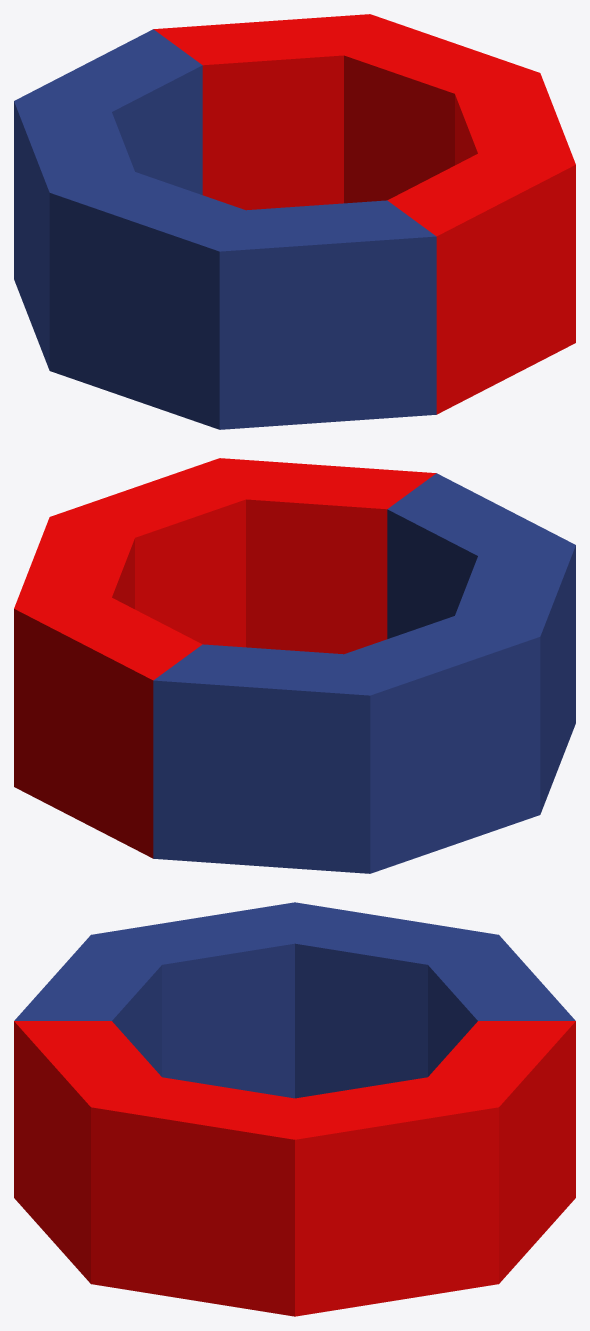
3 views of the same model, one above another, from view 1: azimuth 30°, elevation 25°; view 2: azimuth 150°, elevation 25°; view 3: azimuth 270°, elevation 25° (orthographic).
Visible parts, largest first — view 1: primitive_sphere_glb; view 2: primitive_sphere_glb; view 3: primitive_sphere_glb.
Boxes of the visible parts, box(x1,y1,x2,y2) form: primitive_sphere_glb: box(14, 14, 575, 429); primitive_sphere_glb: box(14, 458, 575, 873); primitive_sphere_glb: box(14, 902, 575, 1316).
Bounding box in the file's own units: 1.05 × 0.3645 × 1.05.
Materials: 1 (1 with a texture image).
